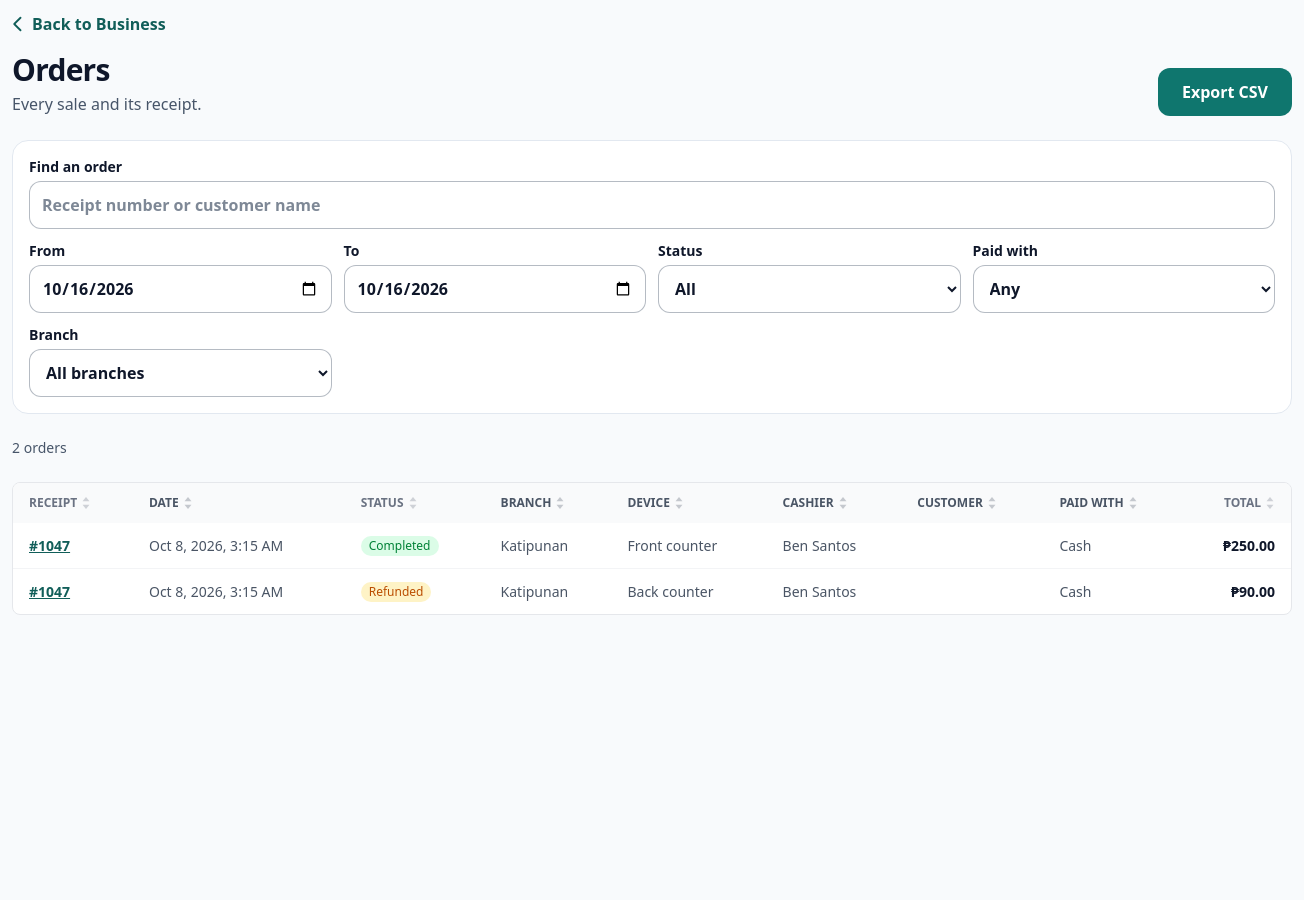
Scenario: OrdersPage › searching by receipt number looks across every day instead of only the chosen dates
In the search field labelled "Find an order": [652, 205] box [29, 181, 1275, 229], type "1047"
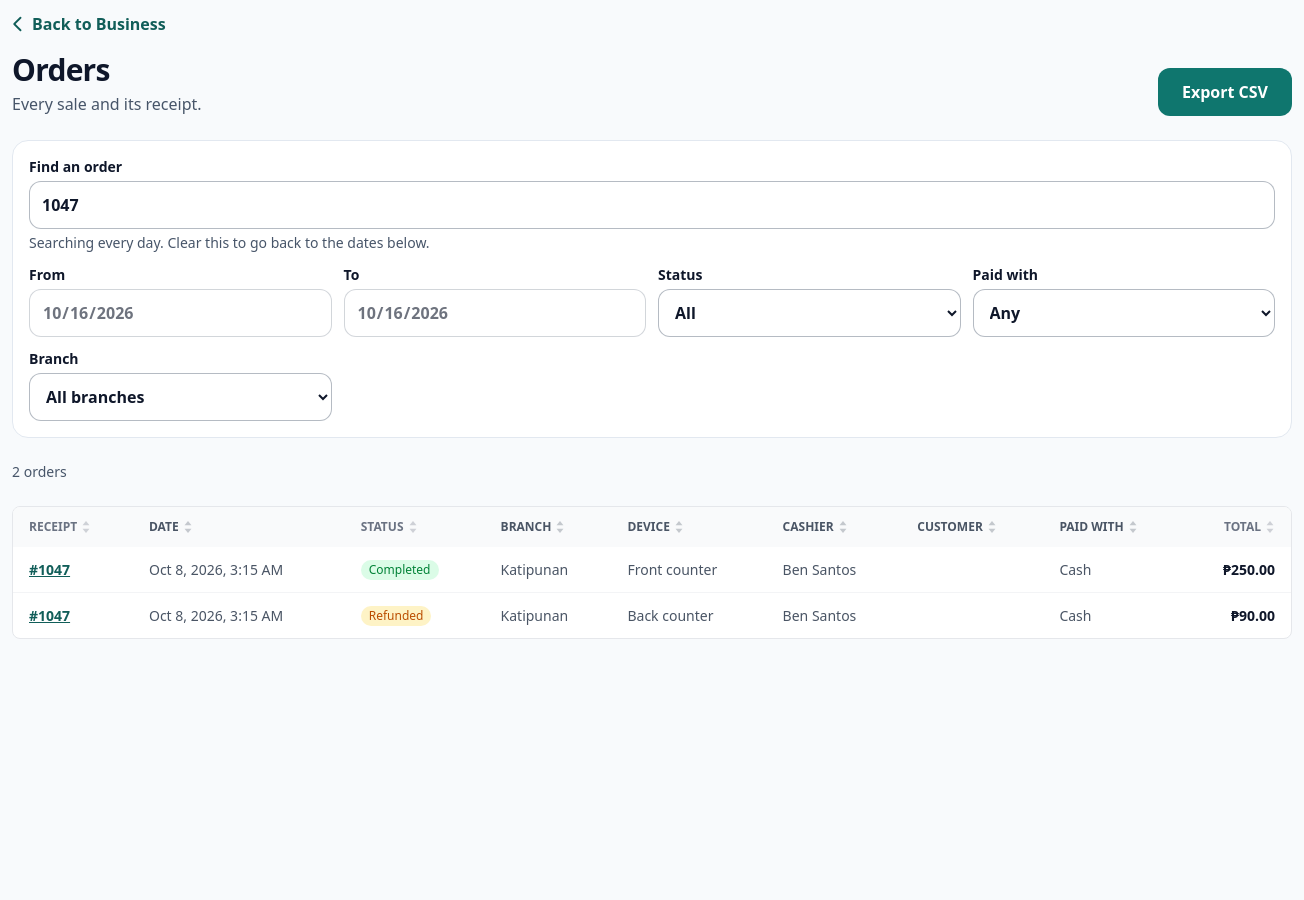
Expected: the date field labelled "From" is disabled, [29, 289, 332, 337]
